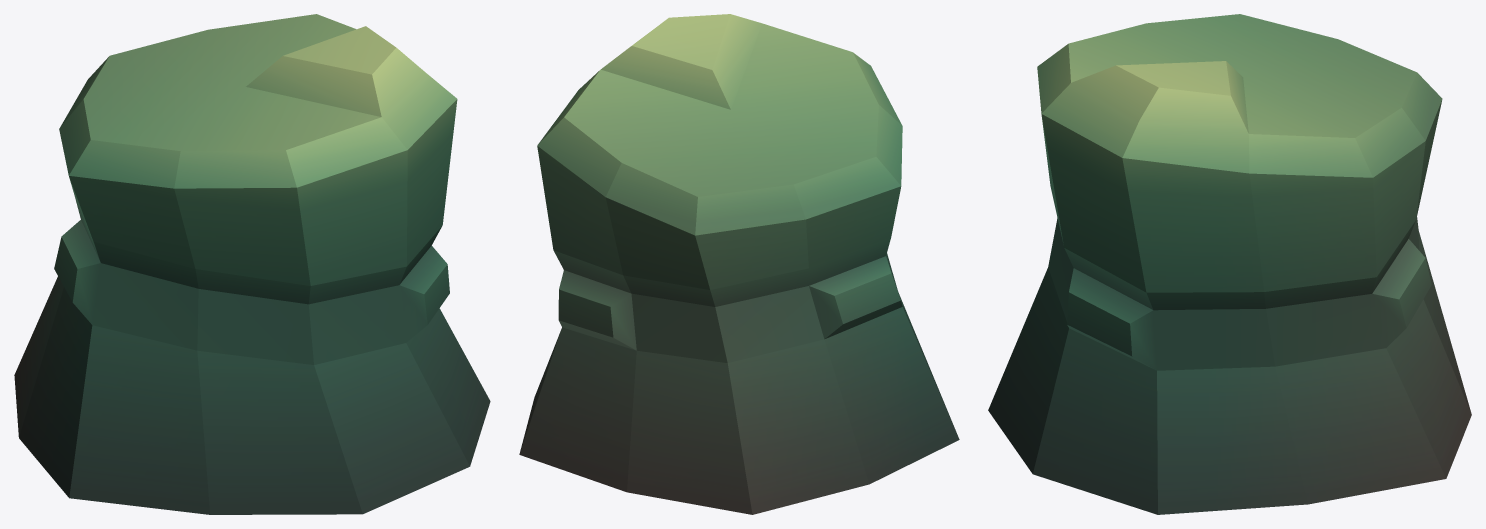
Rendered from SM_Rock_03.fbx.
The picture shows the model from 3 angles, left to right: view 1: azimuth 30°, elevation 25°; view 2: azimuth 150°, elevation 25°; view 3: azimuth 270°, elevation 25°; orthographic projection. The views are drawn at different scales.
Parts seen in each view (by area): view 1: SM_Rock_03; view 2: SM_Rock_03; view 3: SM_Rock_03.
Boxes of the visible parts, x1,y1,x2,y2 form: SM_Rock_03: (14, 14, 490, 514); SM_Rock_03: (519, 14, 959, 514); SM_Rock_03: (988, 14, 1471, 514).
Bounding box in the file's own units: 479 × 415 × 478.
1 material, 1 textured.
